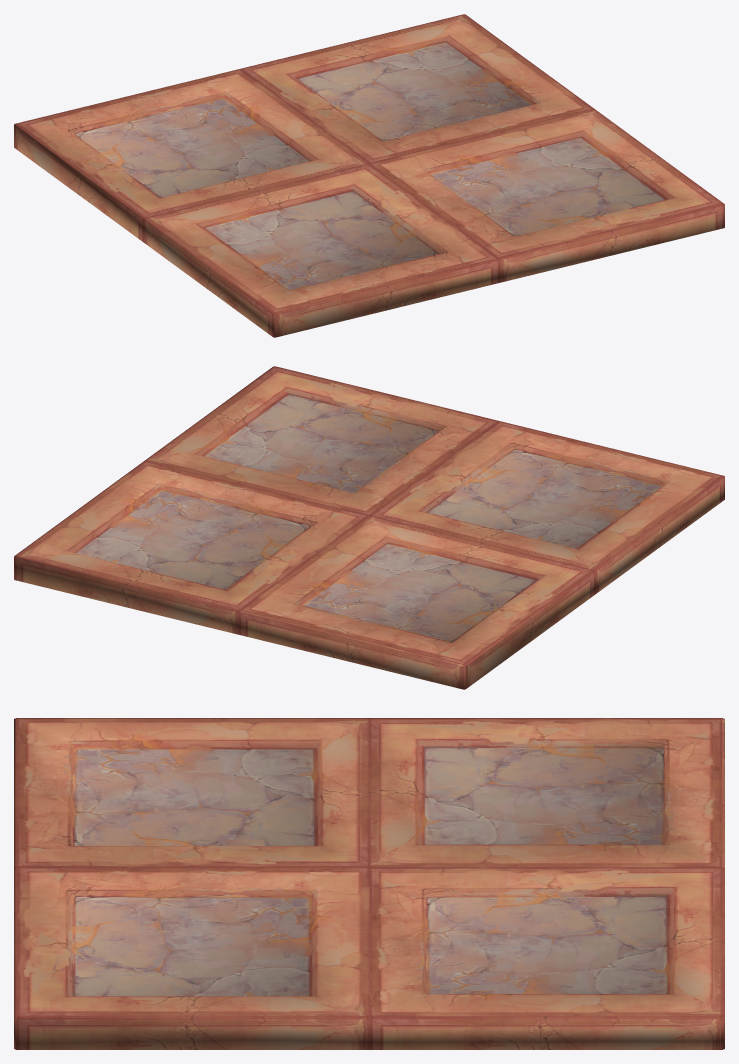
File: kor_vod_ruins_floor.glb
The picture shows the model from 3 angles, top to bottom: view 1: azimuth 30°, elevation 25°; view 2: azimuth 150°, elevation 25°; view 3: azimuth 270°, elevation 25°; orthographic projection. The views are drawn at different scales.
Parts seen in each view (by area): view 1: kor_vod_ruins_floor; view 2: kor_vod_ruins_floor; view 3: kor_vod_ruins_floor.
Part boxes in pixels (x1,y1,x2,y2): kor_vod_ruins_floor: (14,14,724,337); kor_vod_ruins_floor: (14,366,724,689); kor_vod_ruins_floor: (14,718,724,1049).
Size of the model in its own units: 2 by 0.0998 by 2.
Materials: 1 (1 with a texture image).
